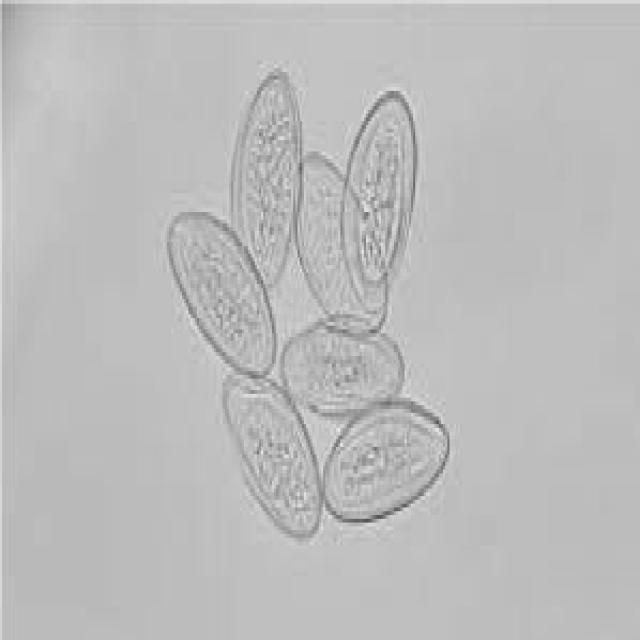Enterobius Vermicularis: (160, 206, 282, 388), (336, 80, 426, 318), (288, 146, 391, 346), (220, 369, 326, 547), (227, 63, 306, 301), (320, 394, 453, 530), (281, 322, 413, 420)
